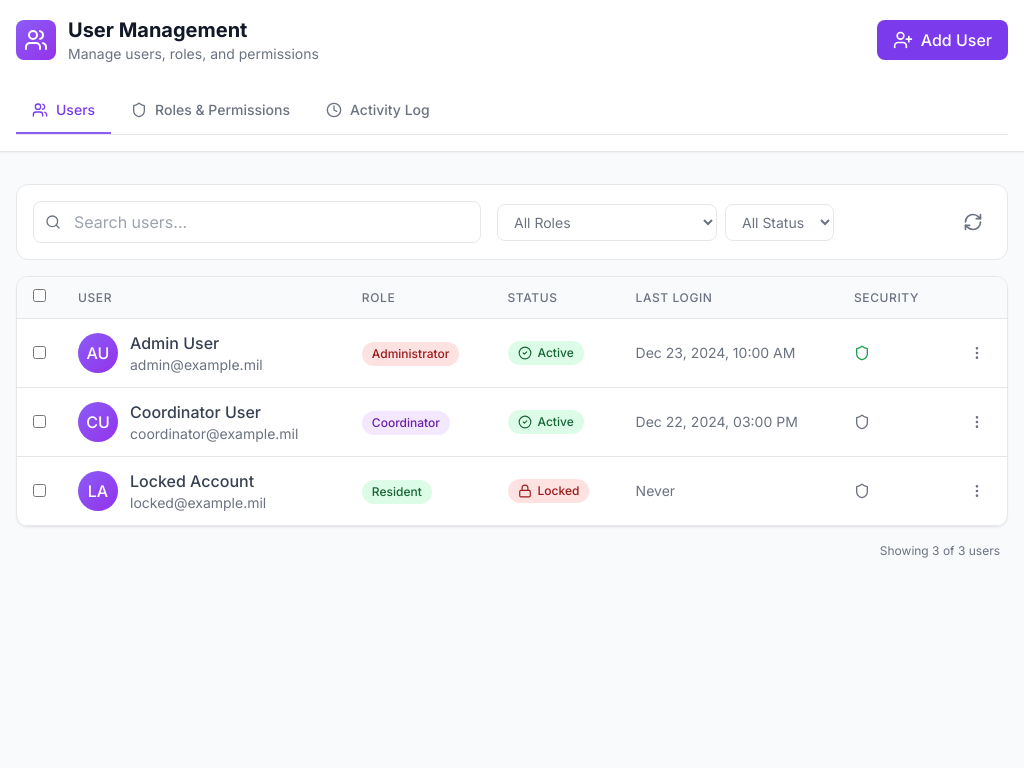
it: AdminUsersPage › User Selection › should show bulk actions when users selected
Click the checkbox in the row of "admin@example.mil". click: (40, 352)
box: [33,346,46,359]
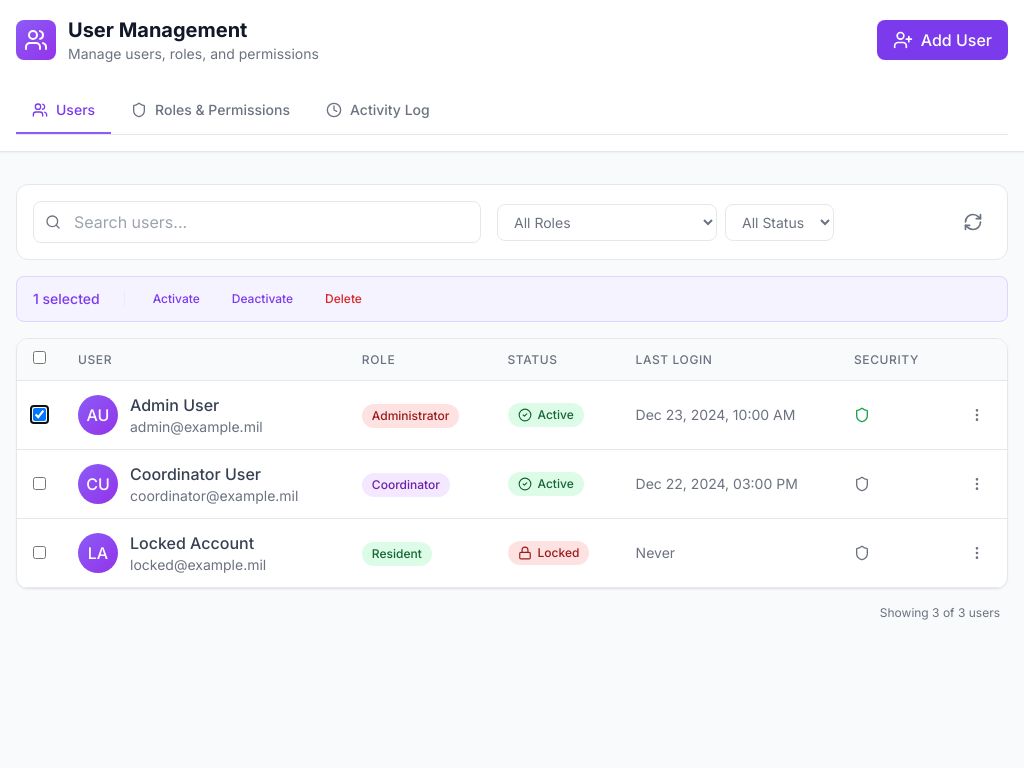
Check: the text "1 selected" is shown, box [33,290,100,307]
Check: the button "Activate" is shown, box [141,285,212,313]
Check: the button "Deactivate" is shown, box [220,285,305,313]
